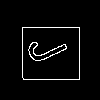J: (25, 25, 78, 68)
